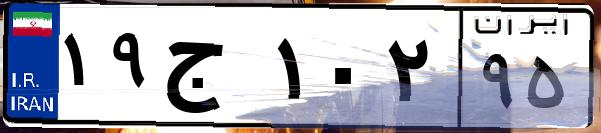0: (330, 28, 385, 110)
1: (270, 28, 330, 110), (57, 26, 110, 100)
2: (385, 28, 445, 110)
5: (525, 38, 570, 115)
9: (475, 38, 525, 113), (110, 28, 158, 98)
ج: (158, 20, 270, 120)
